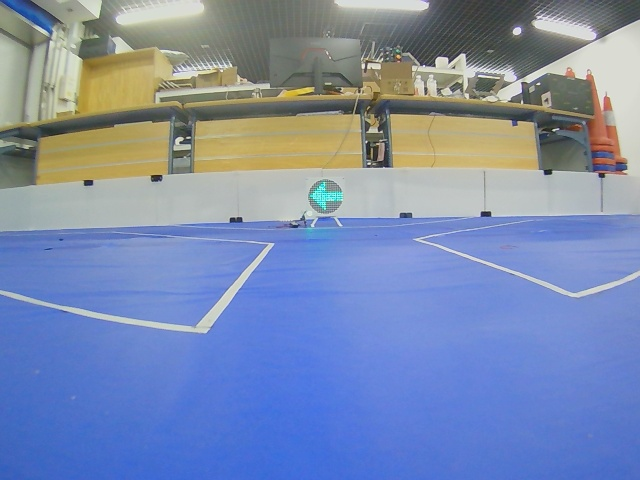left_green: (308, 179, 343, 214)
